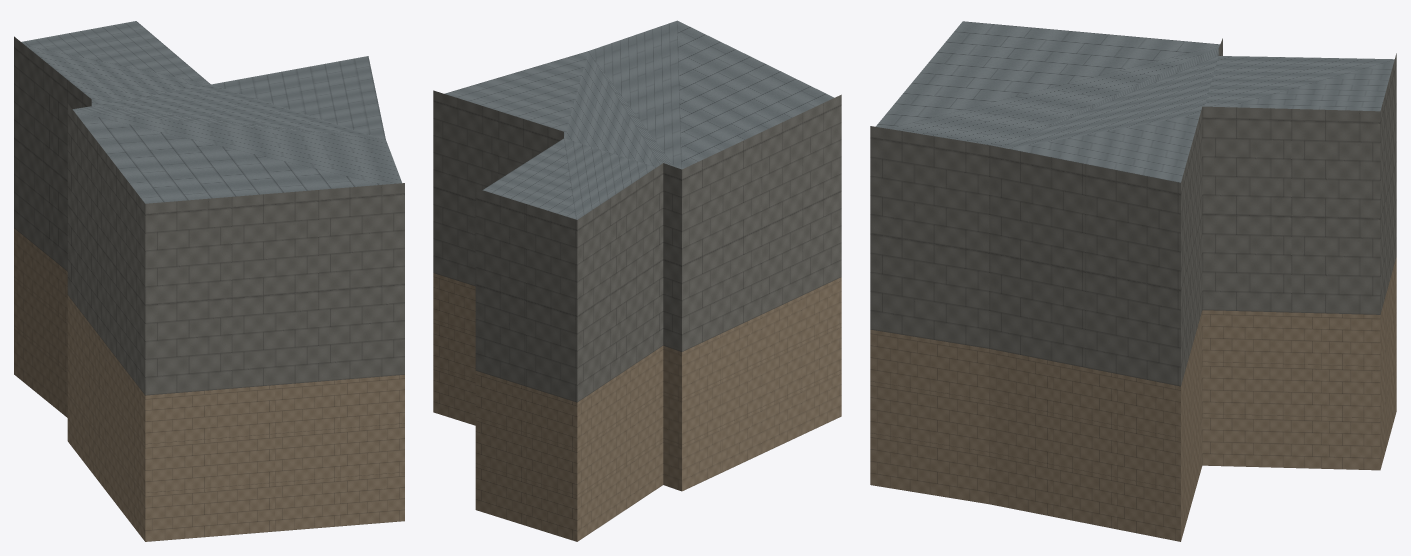
Rendered from bld_c37_-29_439.gltf.
3 views of the same model, side by side, from view 1: azimuth 30°, elevation 25°; view 2: azimuth 150°, elevation 25°; view 3: azimuth 270°, elevation 25° (orthographic). The views are drawn at different scales.
Visible parts, largest first — view 1: bld_c37_-29_439; view 2: bld_c37_-29_439; view 3: bld_c37_-29_439.
Boxes of the visible parts, x1,y1,x2,y2 form: bld_c37_-29_439: (14,21,404,541); bld_c37_-29_439: (433,20,841,541); bld_c37_-29_439: (870,21,1396,541).
Bounding box in the file's own units: 11.88 × 11.78 × 15.66.
Materials: 4 (4 with a texture image).
